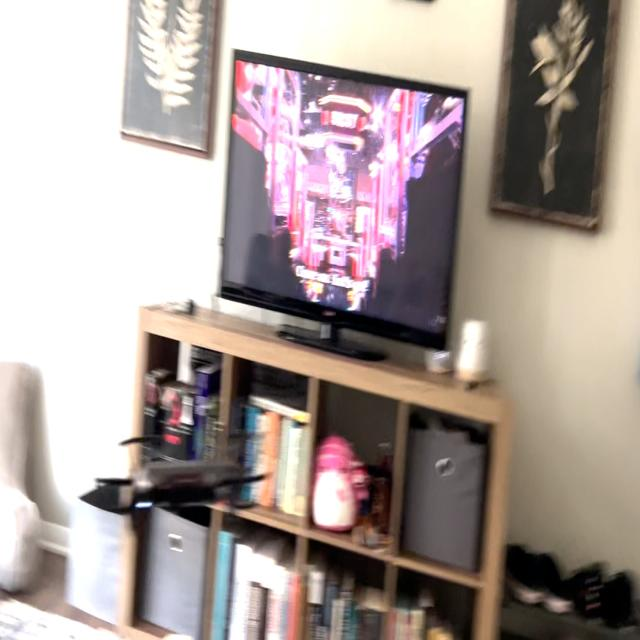drone: (85, 392, 277, 540)
